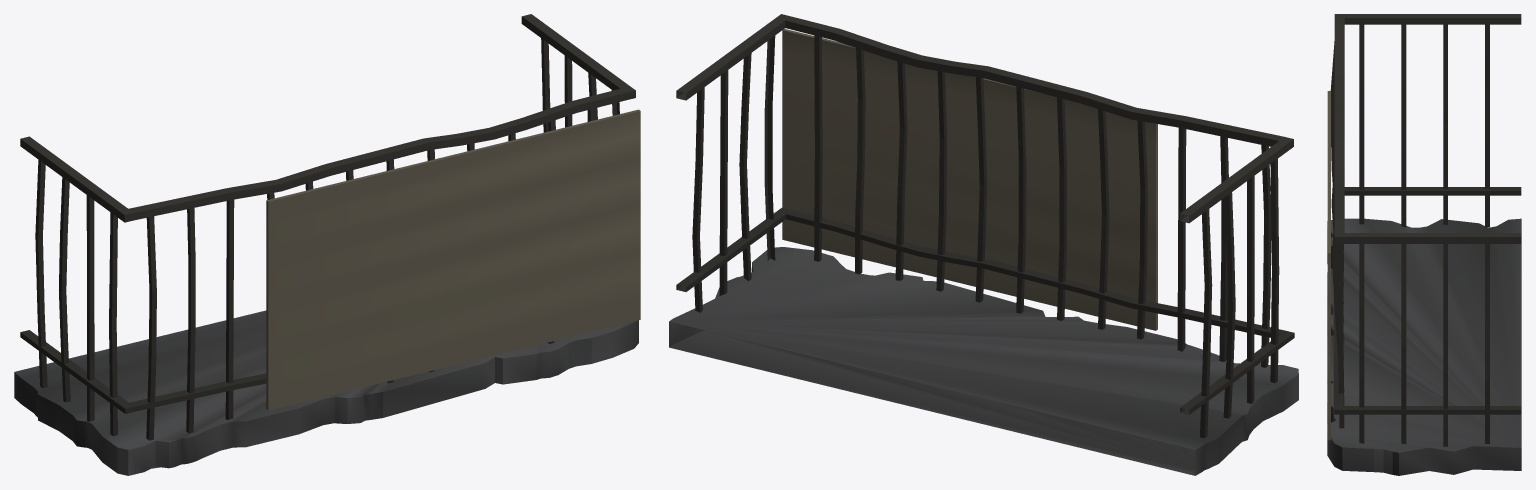
File: open balcony 3.fbx
The picture shows the model from 3 angles, left to right: view 1: azimuth 30°, elevation 25°; view 2: azimuth 150°, elevation 25°; view 3: azimuth 270°, elevation 25°; orthographic projection. The views are drawn at different scales.
Visible parts, largest first — view 1: Plane.017; view 2: Plane.017; view 3: Plane.017.
Boxes of the visible parts, x1=… form: Plane.017: x1=14, y1=14, x2=640, y2=475; Plane.017: x1=669, y1=14, x2=1298, y2=475; Plane.017: x1=1327, y1=14, x2=1521, y2=475.
Bounding box in the file's own units: 687 × 332 × 246.
